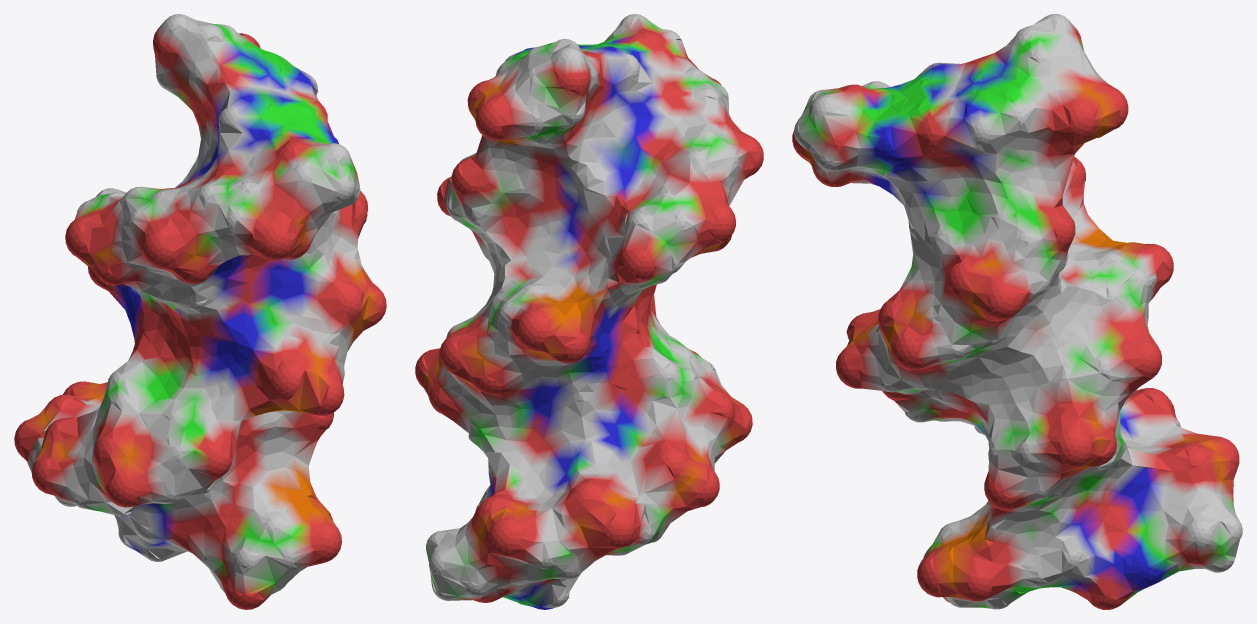
The model's file is MDB_2ky8_dna_surf_alone.dae.
The picture shows the model from 3 angles, left to right: view 1: azimuth 30°, elevation 25°; view 2: azimuth 150°, elevation 25°; view 3: azimuth 270°, elevation 25°; orthographic projection. The views are drawn at different scales.
Parts seen in each view (by area): view 1: node; view 2: node; view 3: node.
Part boxes in pixels (bbox=[...]): node: bbox=[14, 14, 386, 609]; node: bbox=[415, 14, 763, 609]; node: bbox=[792, 14, 1242, 609].
Bounding box in the file's own units: 24.12 × 42.19 × 29.79.
